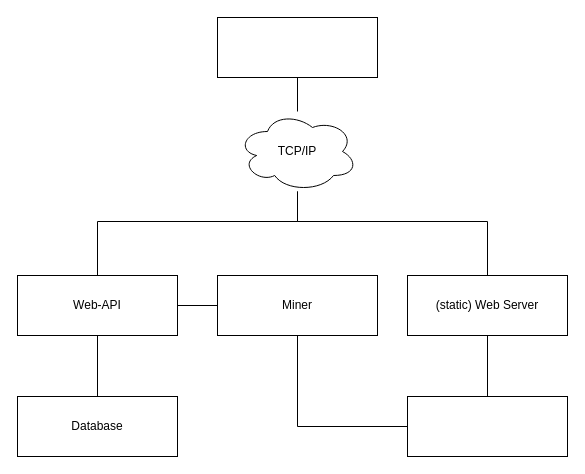
This 585x474 diagram has some shape labels left out. The box of each missing label's shape, as (x1, y1, x2, y2) in pixels:
(Web) Front-end: (216, 16, 378, 78)
File Storage: (406, 396, 568, 456)
